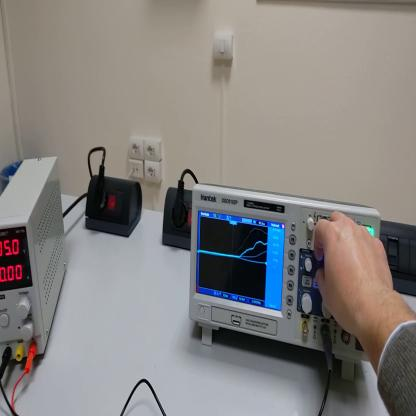hand: (313, 207, 396, 340)
oscilloscope: (188, 183, 380, 381)
power supply: (1, 157, 66, 363)
socket: (86, 173, 143, 242), (163, 188, 192, 251)
